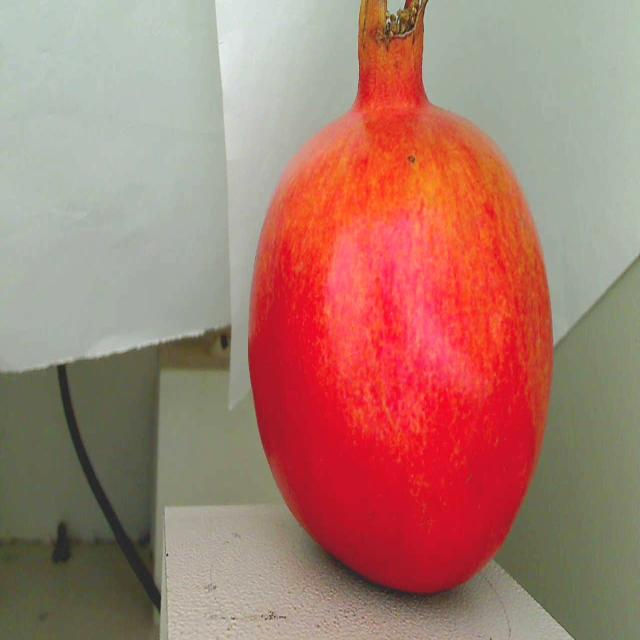pomegranate: (242, 0, 564, 621)
